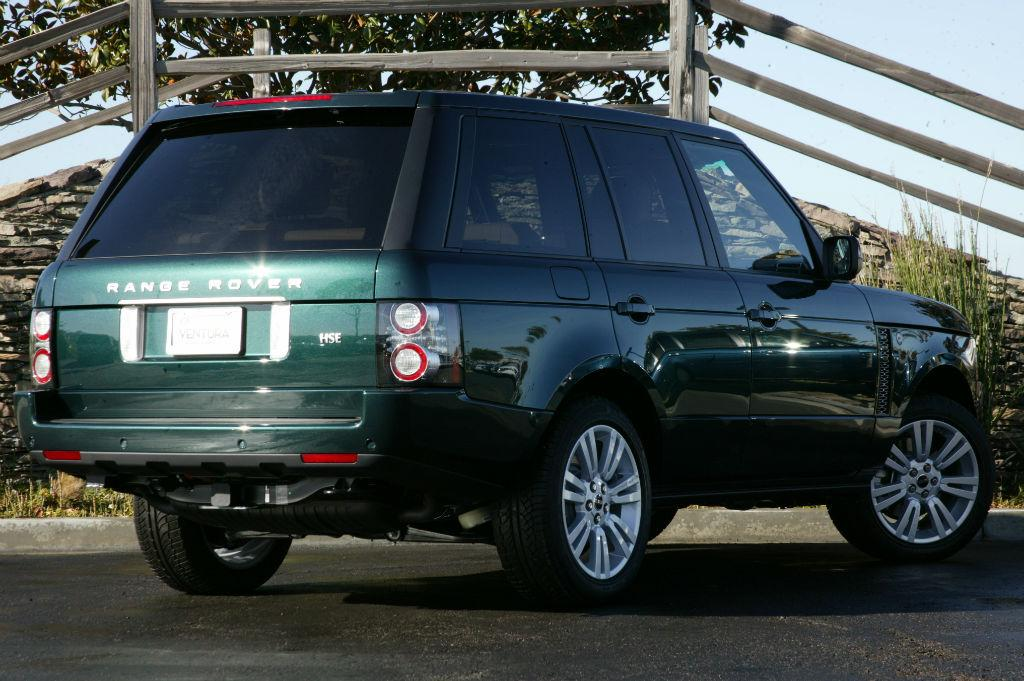range rover: (103, 269, 306, 299)
